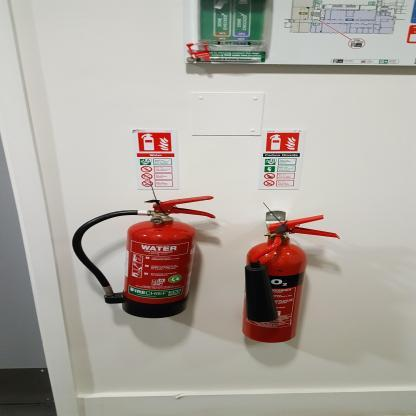Fire Extinguisher: (66, 177, 221, 327), (231, 207, 357, 353)
